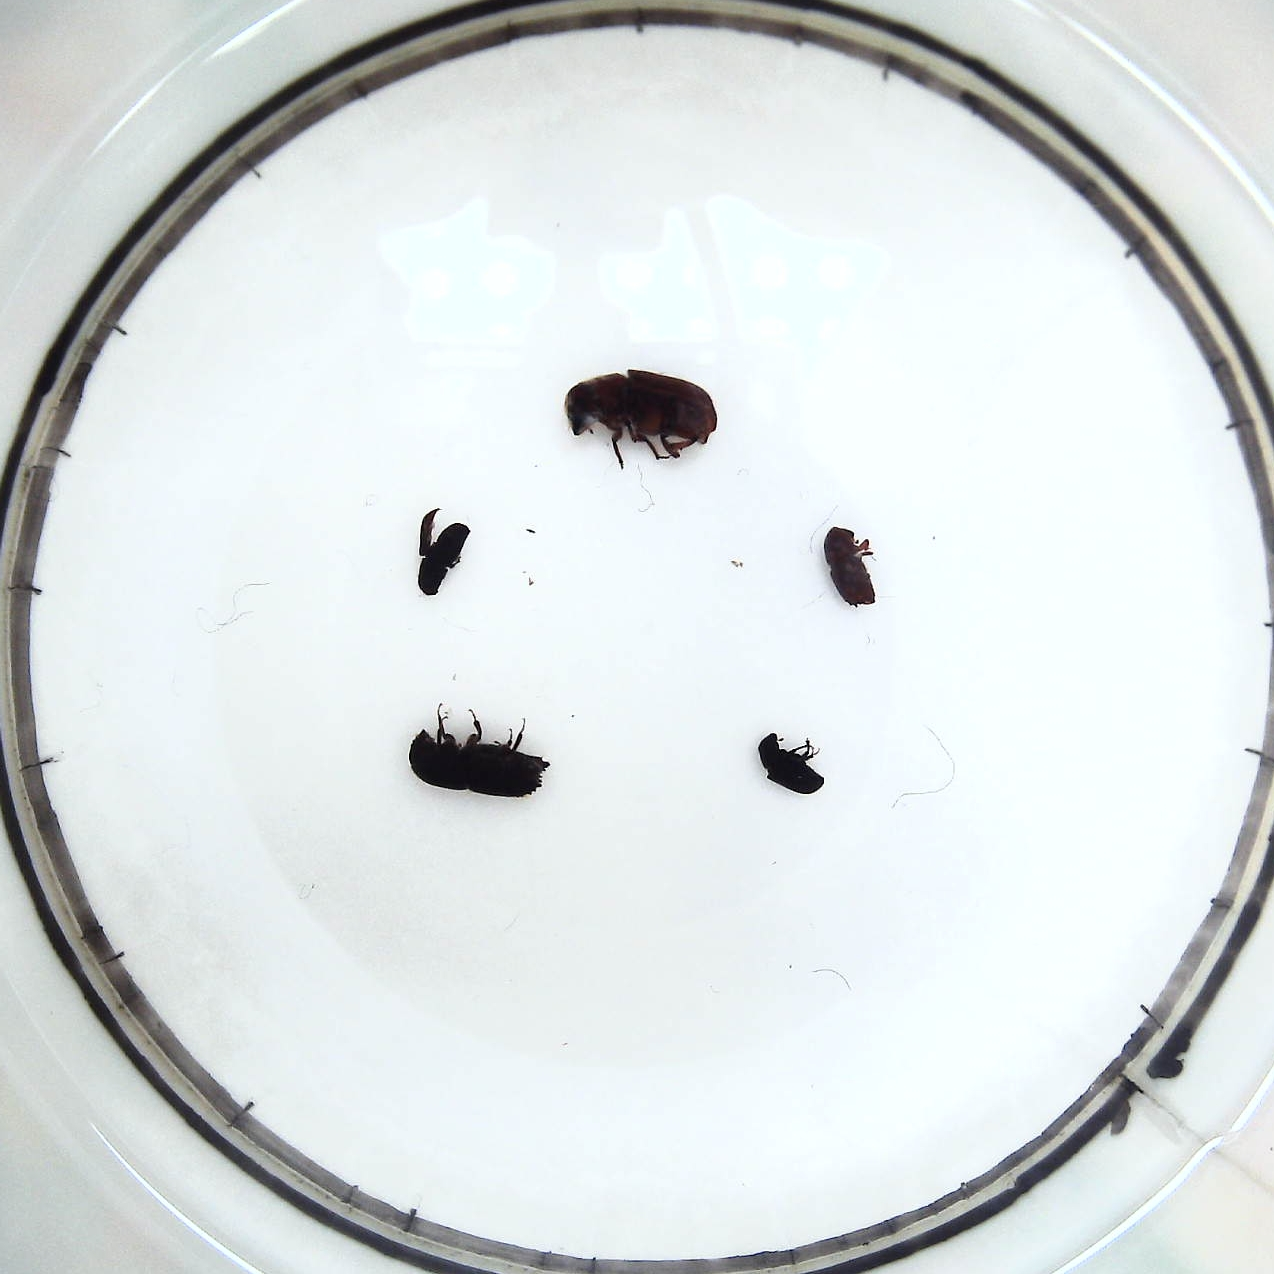Boerner: (405, 698, 561, 800)
Leconte: (561, 364, 724, 469)
armandi: (409, 508, 474, 605)
coleoptera: (756, 724, 835, 803)
linnaeus: (820, 520, 885, 617)
